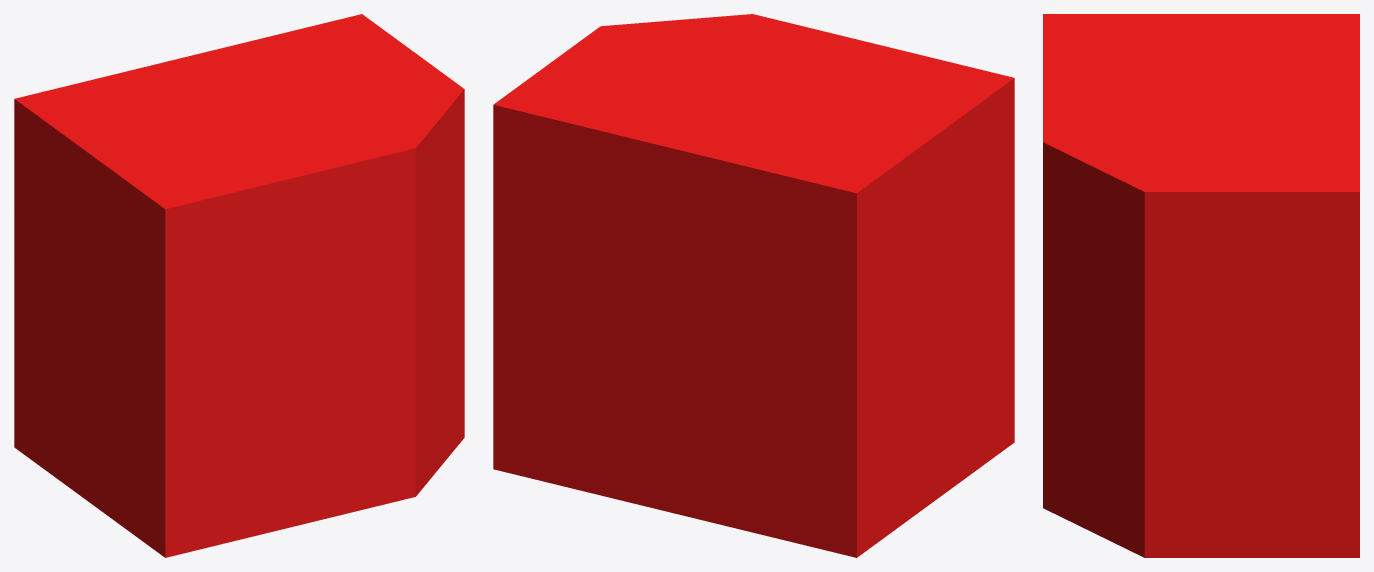
Rendered from inn_collision.fbx.
3 renders of one model, left to right at view 1: azimuth 30°, elevation 25°; view 2: azimuth 150°, elevation 25°; view 3: azimuth 270°, elevation 25°, orthographic. The views are drawn at different scales.
Visible parts, largest first — view 1: obj0.177; view 2: obj0.177; view 3: obj0.177.
Boxes of the visible parts, <box> form: obj0.177: <box>14,14,464,557</box>; obj0.177: <box>493,14,1014,557</box>; obj0.177: <box>1043,14,1359,557</box>.
Bounding box in the file's own units: 8.44 × 8.09 × 6.35.
